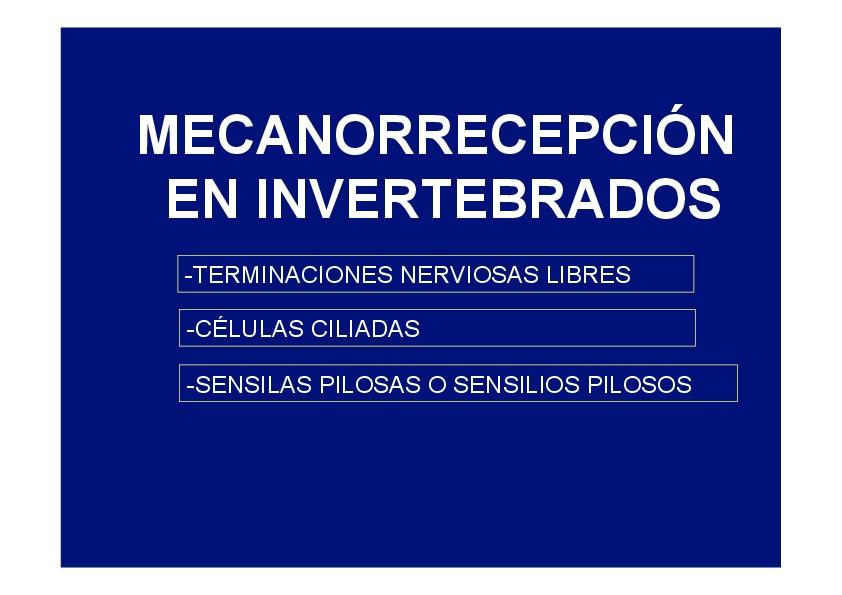paragraph: (169, 240, 756, 424)
title: (124, 99, 749, 233)
